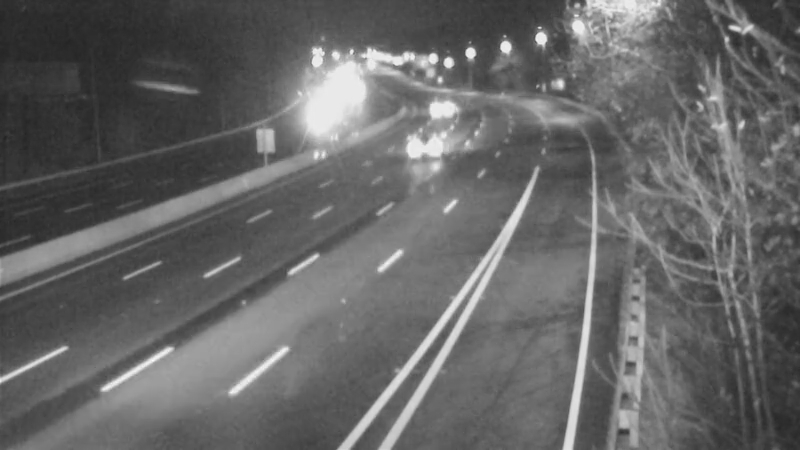vehicle: (406, 81, 456, 131), (399, 122, 449, 172), (289, 88, 339, 138)
